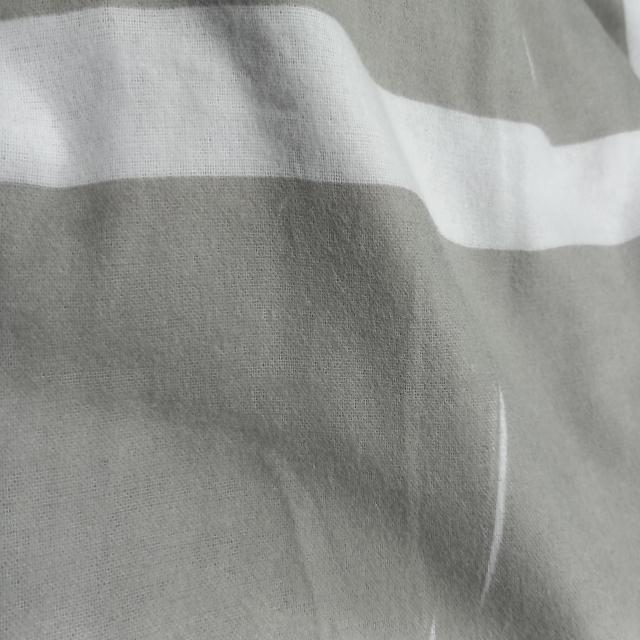selvet: (482, 384, 508, 619), (517, 23, 541, 98)
